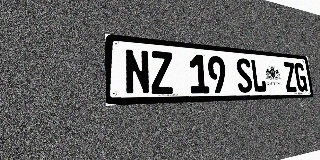1: (188, 54, 210, 94)
9: (207, 55, 227, 93)
G: (294, 63, 308, 92)
L: (250, 59, 267, 92)
N: (124, 48, 151, 95)
S: (235, 58, 253, 93)
Z: (150, 50, 174, 94), (283, 62, 297, 92)
